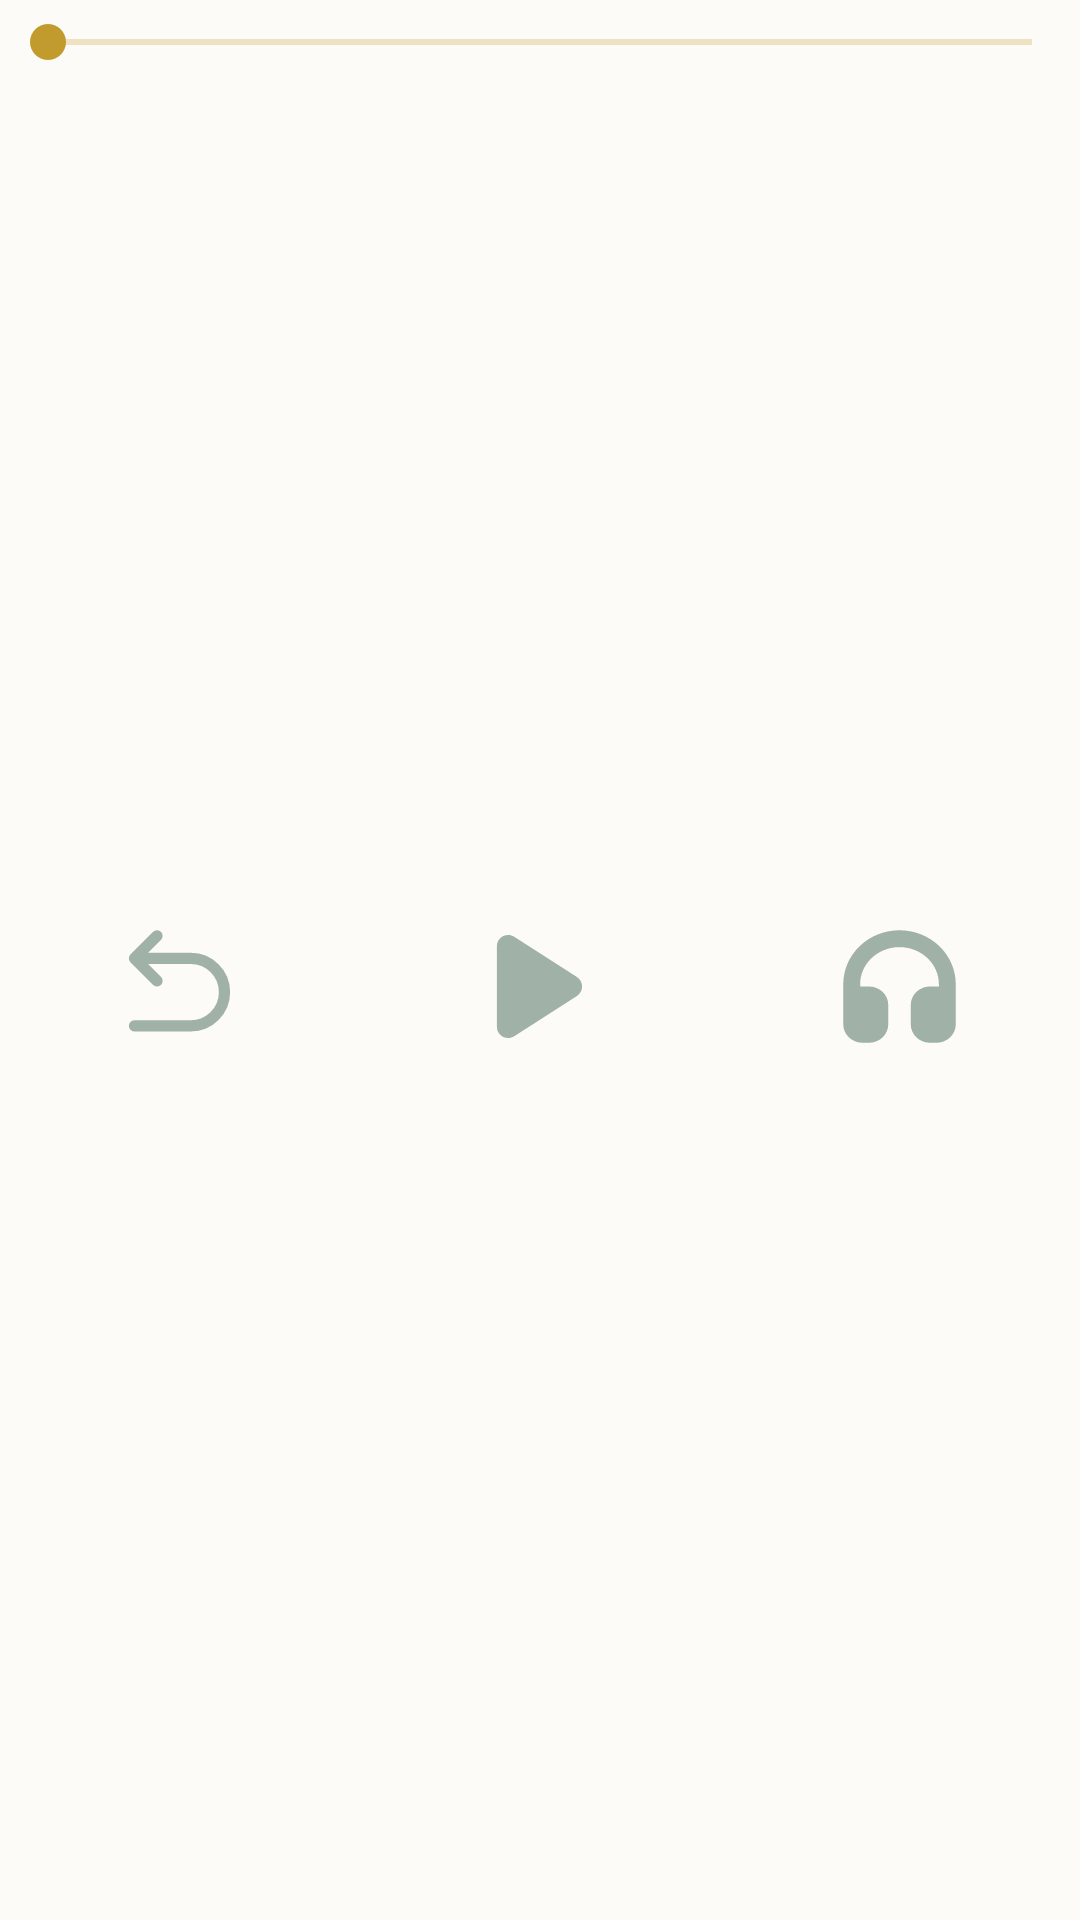

Where to tap for icons on this 1080px×1920px app screen, as [x,y]:
Play/Pause: [539,986]
